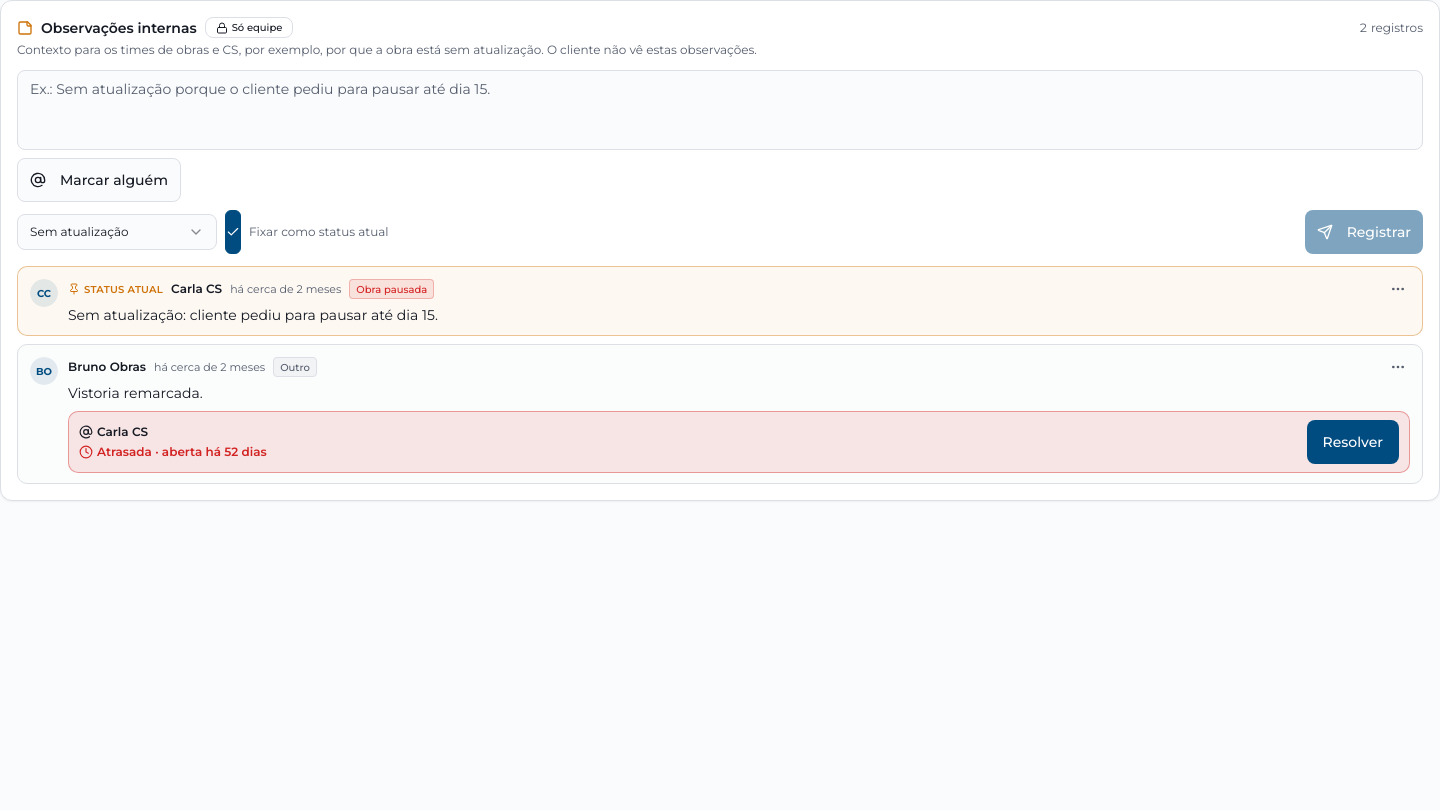
it: InternalNotesCard › menções › quem foi marcado vê a pendência atrasada e resolve com resposta
Later steps or results of the test are not shown.
Expected: the text "Atrasada · aberta há 52 dias" is shown, [79,444,267,459]
Click the button "Resolver".
click(1353, 442)  # box [1306,420,1399,464]
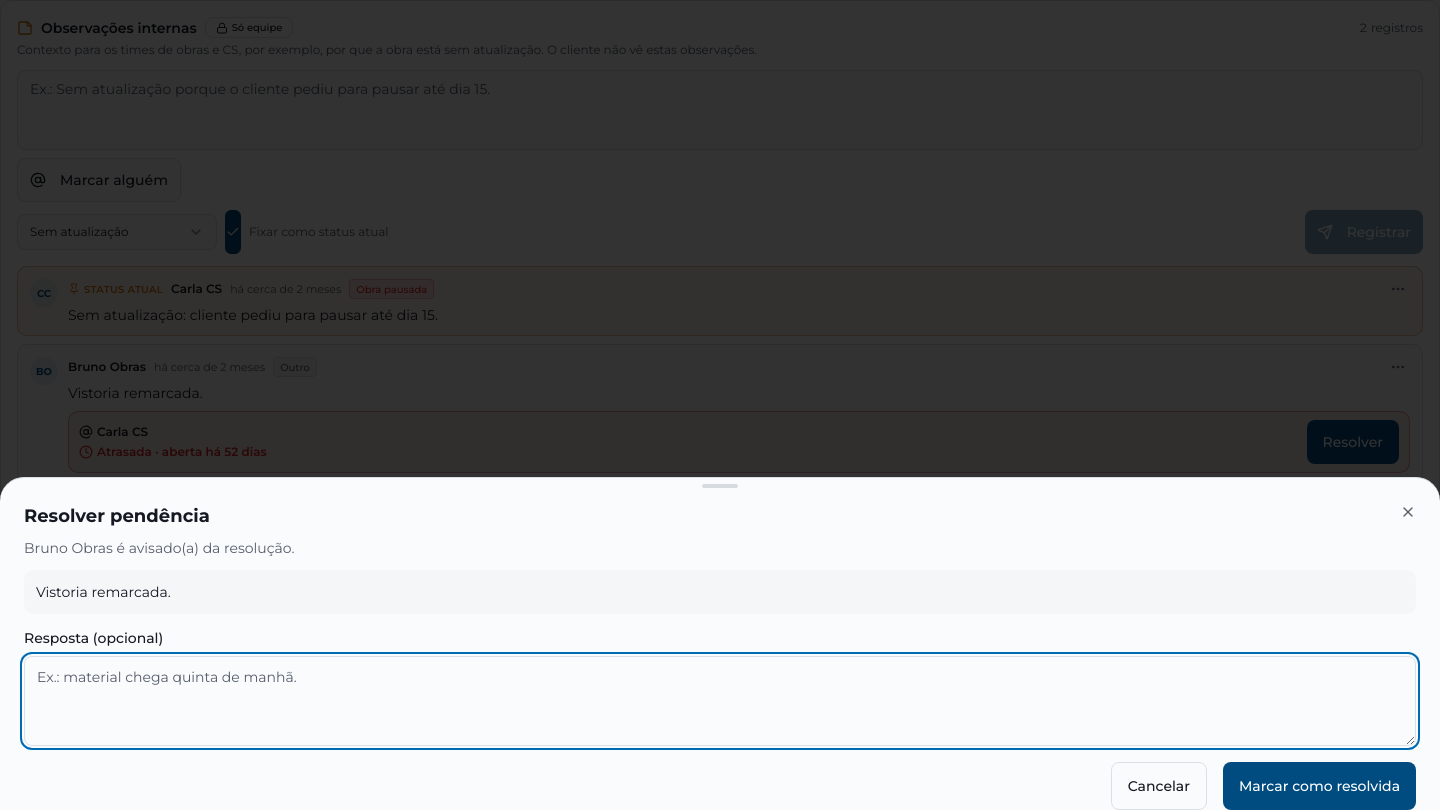
Now the text "Vistoria remarcada." is shown, box [24,570,1416,614]
